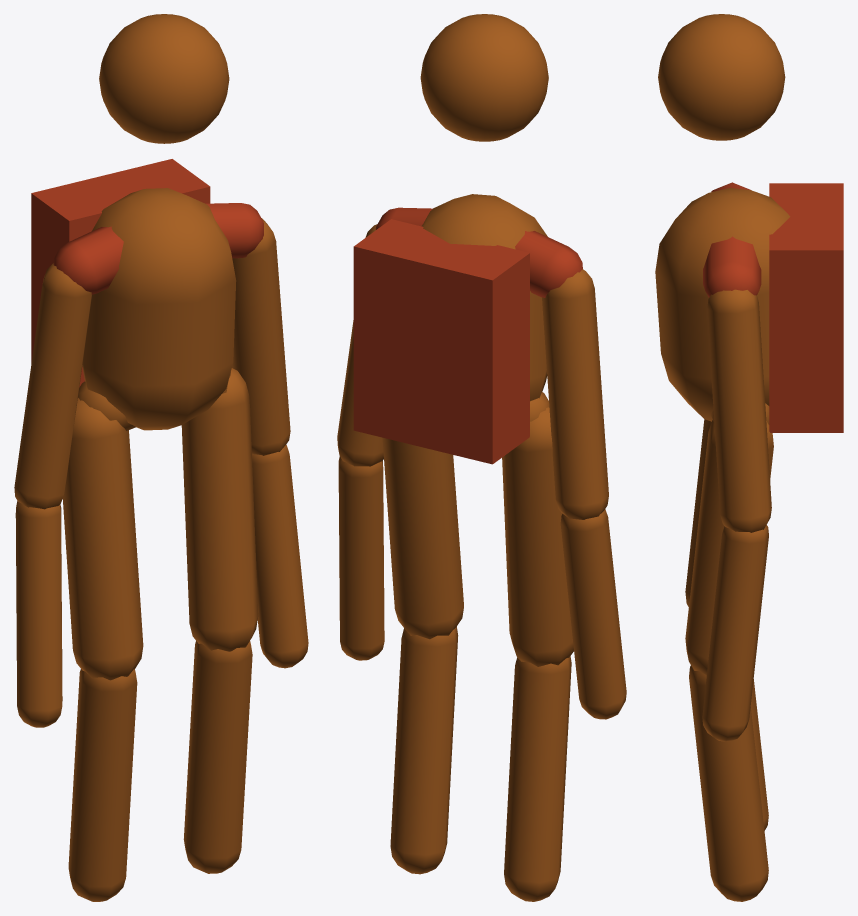
The model's file is escalador_procedural_referencia.glb.
3 views of the same model, side by side, from view 1: azimuth 30°, elevation 25°; view 2: azimuth 150°, elevation 25°; view 3: azimuth 270°, elevation 25° (orthographic). The views are drawn at different scales.
Visible parts, largest first — view 1: torso, thighL, thighR, head, shinL, shinR, uarmL, farmL, farmR, uarmR, pack, shL (+2 smaller); view 2: pack, shinR, shinL, thighL, thighR, head, uarmL, farmL, farmR, torso, shL, uarmR (+1 smaller); view 3: pack, torso, head, uarmR, shinR, farmR, thighR, shR, thighL, shinL.
Boxes of the visible parts, x1,y1,x2,y2 form: torso: [82, 188, 236, 430]; thighL: [62, 398, 143, 680]; thighR: [181, 368, 258, 651]; head: [99, 14, 229, 143]; shinL: [68, 669, 137, 901]; shinR: [183, 641, 252, 873]; uarmL: [14, 263, 91, 509]; farmL: [15, 501, 62, 727]; farmR: [252, 445, 308, 668]; uarmR: [232, 218, 290, 455]; pack: [31, 159, 210, 387]; shL: [53, 226, 123, 294]; pack: [353, 219, 529, 464]; shinR: [390, 626, 458, 874]; shinL: [504, 656, 571, 901]; thighL: [502, 407, 573, 666]; thighR: [382, 437, 463, 639]; head: [420, 14, 548, 141]; uarmL: [542, 269, 608, 519]; farmL: [560, 509, 626, 719]; farmR: [338, 456, 384, 660]; torso: [421, 194, 547, 401]; shL: [515, 231, 582, 297]; uarmR: [337, 224, 383, 466]; pack: [769, 183, 843, 432]; torso: [655, 188, 790, 421]; head: [658, 14, 785, 140]; uarmR: [707, 289, 771, 532]; shinR: [689, 665, 768, 901]; farmR: [702, 525, 768, 741]; thighR: [685, 420, 773, 675]; shR: [703, 236, 761, 297]; thighL: [685, 419, 711, 606]; shinL: [750, 679, 768, 830].
Size of the model in its own units: 0.6089 by 1.77 by 0.355.
